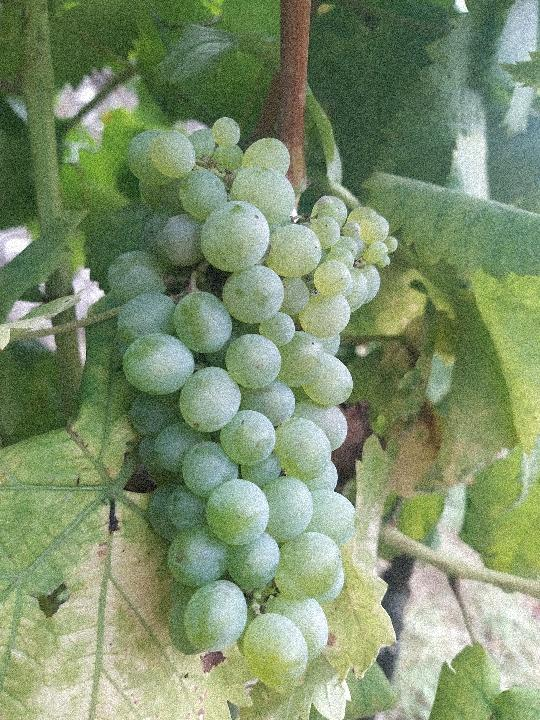grape: (104, 115, 401, 690)
